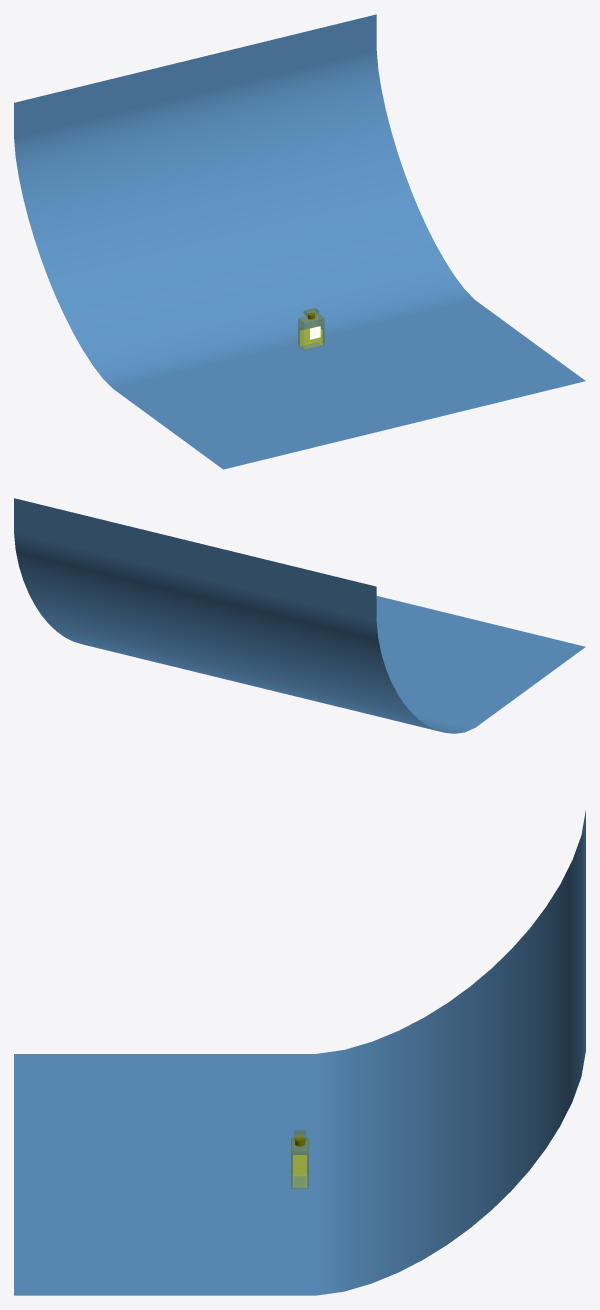
File: xiangshuiping.glb
The picture shows the model from 3 angles, top to bottom: view 1: azimuth 30°, elevation 25°; view 2: azimuth 150°, elevation 25°; view 3: azimuth 270°, elevation 25°; orthographic projection. The views are drawn at different scales.
Visible parts, largest first — view 1: 平面, 立方体; view 2: 平面; view 3: 平面, 立方体.
Boxes of the visible parts, x1,y1,x2,y2 form: 平面: [14, 14, 585, 469]; 立方体: [298, 313, 324, 349]; 平面: [14, 498, 585, 733]; 平面: [14, 810, 585, 1295]; 立方体: [291, 1137, 308, 1188].
Size of the model in its own units: 68.06 by 38.34 by 68.06.
6 materials, 1 textured.
